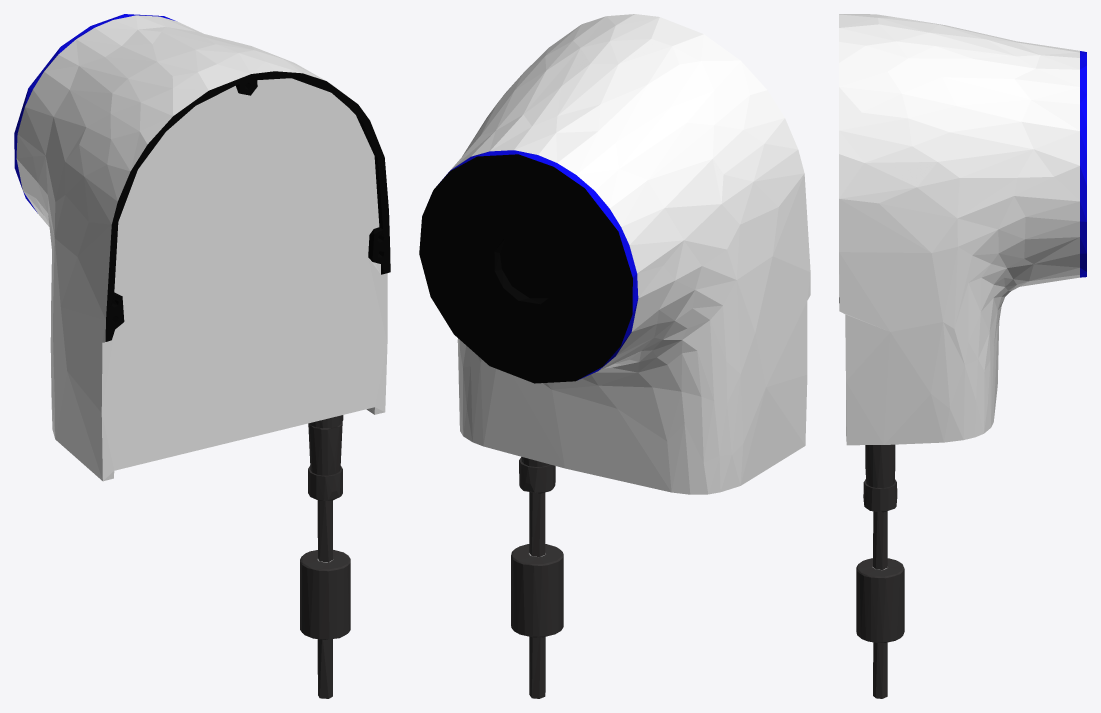
The picture shows the model from 3 angles, left to right: view 1: azimuth 30°, elevation 25°; view 2: azimuth 150°, elevation 25°; view 3: azimuth 270°, elevation 25°; orthographic projection. The views are drawn at different scales.
Parts seen in each view (by area): view 1: tmp_export_base; view 2: tmp_export_base; view 3: tmp_export_base.
Boxes of the visible parts, <box> form: tmp_export_base: <box>14,14,390,698</box>; tmp_export_base: <box>419,14,810,698</box>; tmp_export_base: <box>839,14,1086,698</box>.
Size of the model in its own units: 0.1356 by 0.108 by 0.2998.
Materials: 1 (1 with a texture image).
